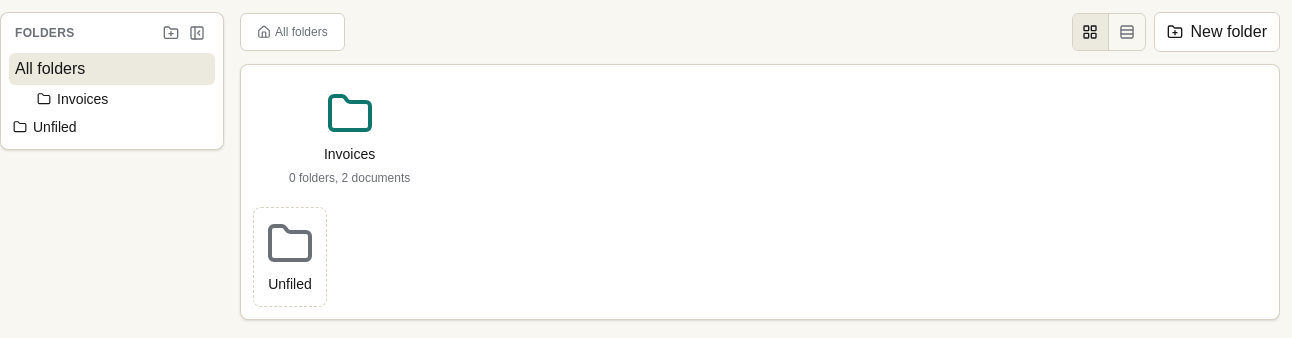
Scenario: FolderExplorer › right-clicking a folder shows that folder's own menu, not a document's
The image size is (1292, 338).
Right-click the 2nd text "Invoices": (350, 154) [324,146,375,162]
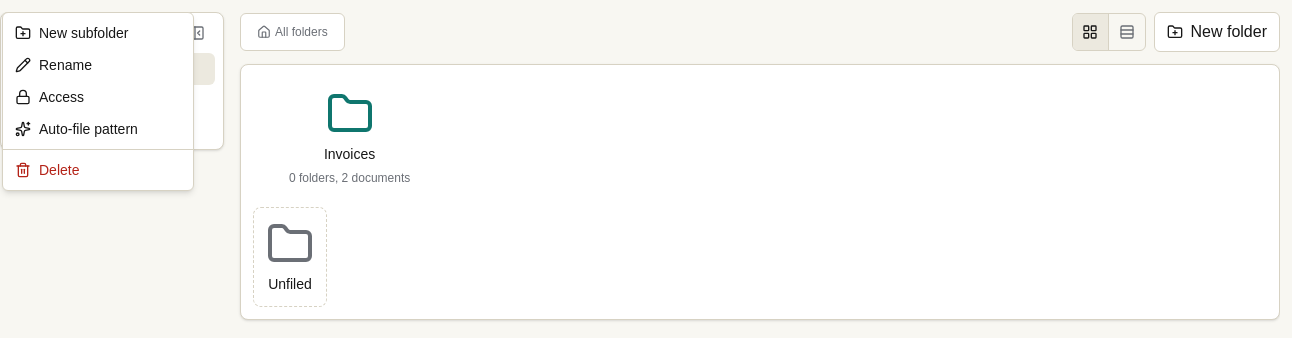
expect the menu item "Access" is shown: met, box [15,89,84,105]
